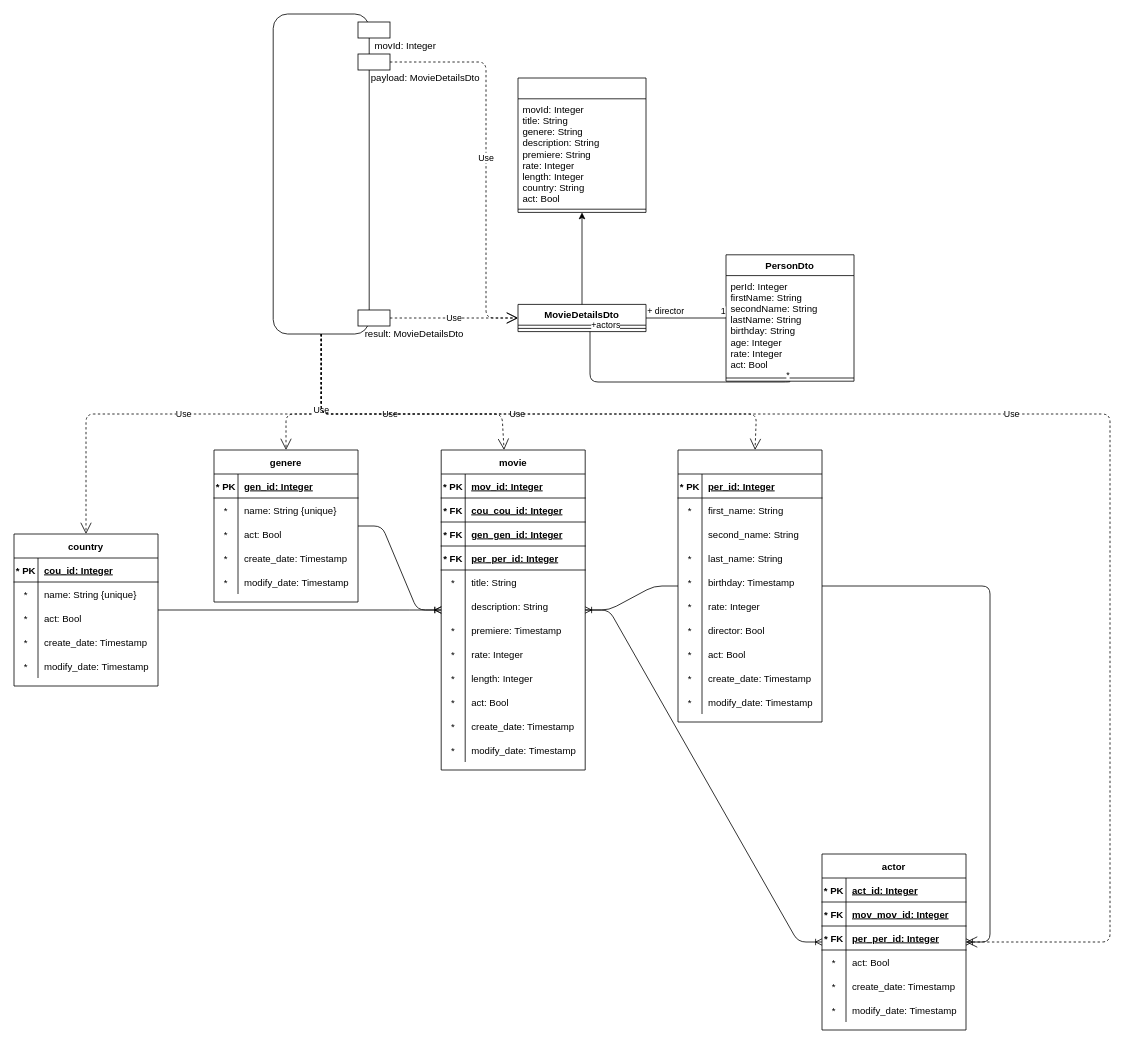
This 1135x1044 diagram has some shape labels left out. Here are the shapes that lost their labels. From the top down, the box of each, then its label:
(517, 77, 646, 212): MovieDto
(272, 13, 369, 334): <<REST>> Edit movie
(677, 449, 822, 722): person
